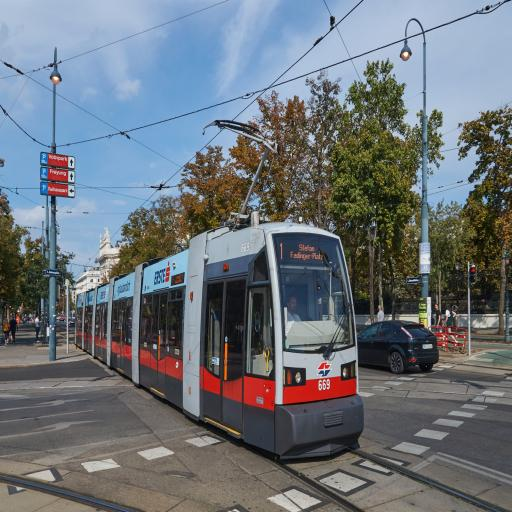ULF: (75, 221, 363, 457)
